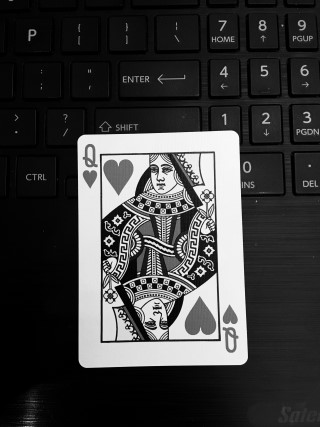QueenOfHearts: (78, 130, 250, 368)
